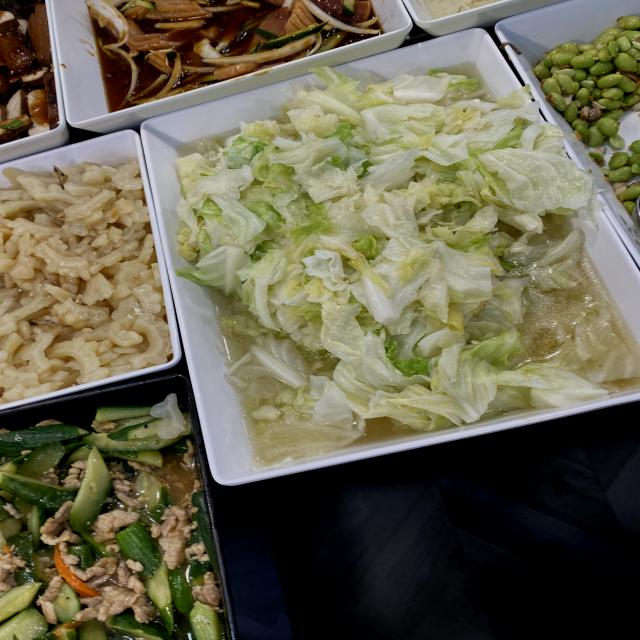cabbage: (242, 142, 508, 384)
